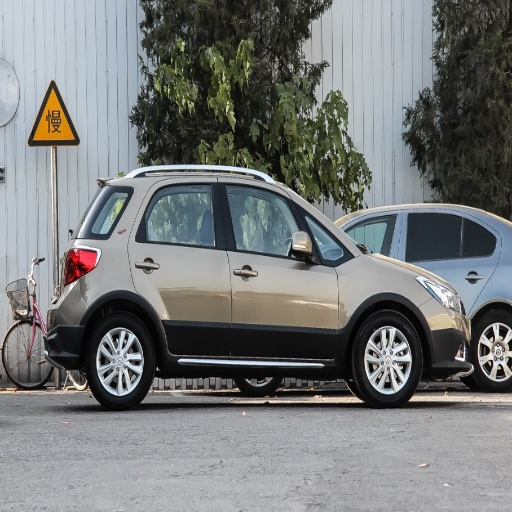back_right_door: (128, 175, 230, 355)
front_right_door: (220, 176, 342, 356)
